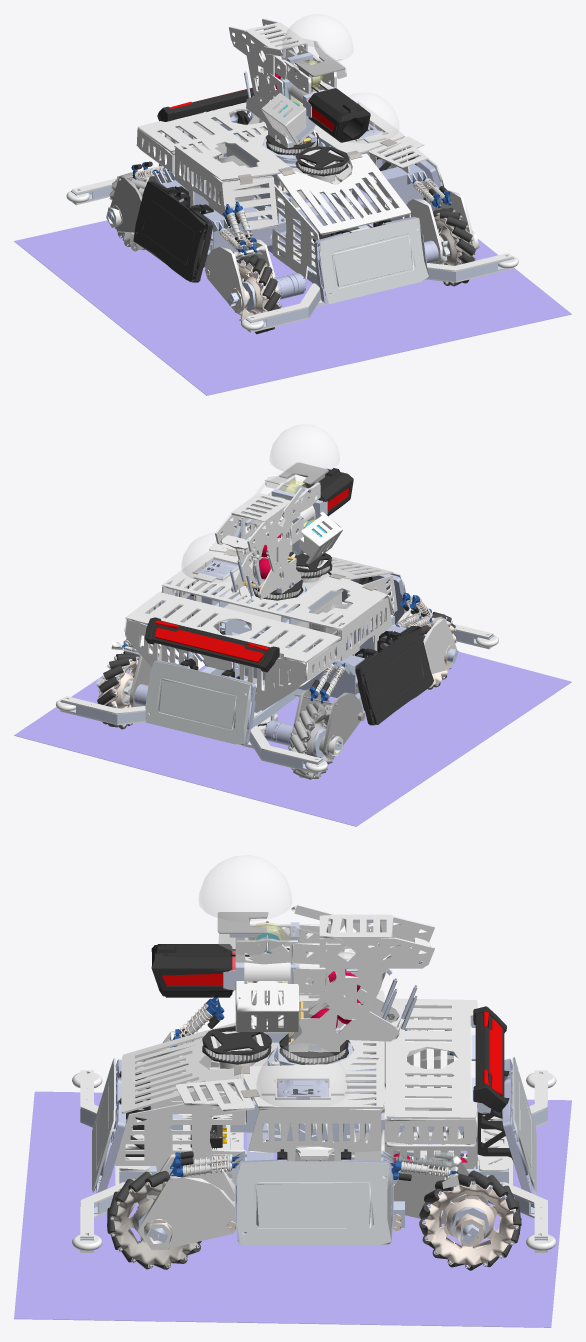
The model's file is hero_robot_step_aligned.glb.
The picture shows the model from 3 angles, top to bottom: view 1: azimuth 30°, elevation 25°; view 2: azimuth 150°, elevation 25°; view 3: azimuth 270°, elevation 25°; orthographic projection. The views are drawn at different scales.
Visible parts, largest first — view 1: 零件1-1, RoboMaster 装甲模块 AM12 2020(1)-3, RoboMaster 装甲模块 AM12 2020(1)-1, 外壳1-1, 外壳4-1, 云台2(齿轮改), 【玻纤板】弹仓盖板-1, 云台底座1-1/发射机构1-2/发射测试鹅颈-3/枪管装配鹅颈-1/官方件-42mm测速模块-1, 外壳3-2, 底盘2.0-1/轮组2.2-1/2020官方麦轮-左旋-1, 外壳6-2, 底盘2.0-1/轮组2.1-1/2020官方麦轮-右旋-2 (+26 smaller); view 2: 零件1-1, RoboMaster 装甲模块 AM12 2020(1)-4, 外壳4-1, 【玻纤板】弹仓盖板-1, RoboMaster 装甲模块 AM12 2020(1)-1, RoboMaster 灯条模块 LI01 2020 STEP(1)-1, 云台2(齿轮改), 主控检查-1, 【玻纤板】弹仓后挡板-1, 云台底座1-1/发射机构1-2/云台侧板2-1, 底盘2.0-1/轮组2.1-2/2020官方麦轮-右旋-2, 外壳5-2 (+22 smaller); view 3: 零件1-1, RoboMaster 装甲模块 AM12 2020(1)-2, 【玻纤板】弹仓盖板-1, 底盘2.0-1/轮组2.2-2/2020官方麦轮-左旋-1, 外壳4-1, 云台底座1-1/发射机构1-2/云台侧板1-1, 外壳3-1, 外壳1-1, 外壳5-1, 云台2(齿轮改), 主控检查-1, 底盘2.0-1/轮组2.1-1/【玻纤板】轮组侧板2-1 (+39 smaller).
Boxes of the visible parts, box(x1,y1,x2,y2) form: 零件1-1: box(14, 188, 571, 395); RoboMaster 装甲模块 AM12 2020(1)-3: box(314, 216, 428, 304); RoboMaster 装甲模块 AM12 2020(1)-1: box(133, 181, 212, 282); 外壳1-1: box(276, 153, 410, 235); 外壳4-1: box(174, 100, 404, 181); 云台2(齿轮改): box(282, 14, 352, 64); 【玻纤板】弹仓盖板-1: box(137, 82, 332, 152); 云台底座1-1/发射机构1-2/发射测试鹅颈-3/枪管装配鹅颈-1/官方件-42mm测速模块-1: box(308, 83, 370, 142); 外壳3-2: box(272, 184, 319, 278); 底盘2.0-1/轮组2.2-1/2020官方麦轮-左旋-1: box(235, 254, 282, 334); 外壳6-2: box(221, 175, 278, 229); 底盘2.0-1/轮组2.1-1/2020官方麦轮-右旋-2: box(430, 208, 475, 286); 零件1-1: box(14, 652, 571, 826); RoboMaster 装甲模块 AM12 2020(1)-4: box(145, 660, 256, 745); 外壳4-1: box(161, 550, 387, 629); 【玻纤板】弹仓盖板-1: box(125, 592, 340, 662); RoboMaster 装甲模块 AM12 2020(1)-1: box(355, 626, 433, 725); RoboMaster 灯条模块 LI01 2020 STEP(1)-1: box(145, 617, 279, 672); 云台2(齿轮改): box(270, 424, 339, 473); 主控检查-1: box(182, 533, 250, 581); 【玻纤板】弹仓后挡板-1: box(238, 657, 306, 712); 云台底座1-1/发射机构1-2/云台侧板2-1: box(247, 507, 292, 574); 底盘2.0-1/轮组2.1-2/2020官方麦轮-右旋-2: box(288, 702, 333, 779); 外壳5-2: box(340, 597, 391, 660); 零件1-1: box(14, 1091, 571, 1327); RoboMaster 装甲模块 AM12 2020(1)-2: box(235, 1158, 393, 1245); 【玻纤板】弹仓盖板-1: box(386, 998, 477, 1119); 底盘2.0-1/轮组2.2-2/2020官方麦轮-左旋-1: box(419, 1170, 521, 1270); 外壳4-1: box(243, 990, 384, 1108); 云台底座1-1/发射机构1-2/云台侧板1-1: box(319, 937, 435, 1019); 外壳3-1: box(114, 1093, 246, 1184); 外壳1-1: box(121, 1022, 240, 1113); 外壳5-1: box(248, 1109, 381, 1161); 云台2(齿轮改): box(199, 855, 291, 920); 主控检查-1: box(257, 1043, 348, 1108); 底盘2.0-1/轮组2.1-1/【玻纤板】轮组侧板2-1: box(138, 1176, 236, 1249).
Bounding box in the file's own units: 0.8302 × 0.5822 × 0.8302.
